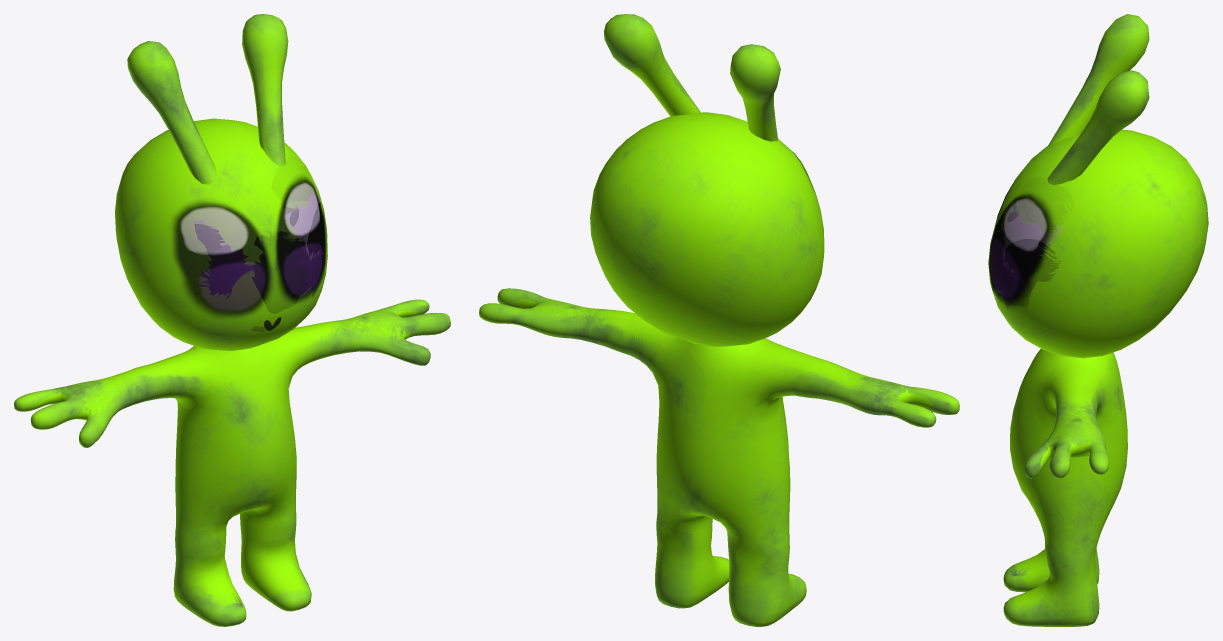
File: Alien_Smoth_TPose.fbx
The picture shows the model from 3 angles, left to right: view 1: azimuth 30°, elevation 25°; view 2: azimuth 150°, elevation 25°; view 3: azimuth 270°, elevation 25°; orthographic projection. The views are drawn at different scales.
Parts seen in each view (by area): view 1: Alien_Smoth_TPose; view 2: Alien_Smoth_TPose; view 3: Alien_Smoth_TPose.
Boxes of the visible parts, x1,y1,x2,y2 form: Alien_Smoth_TPose: [14, 14, 450, 626]; Alien_Smoth_TPose: [479, 14, 959, 626]; Alien_Smoth_TPose: [988, 14, 1208, 626].
Bounding box in the file's own units: 95.79 × 120 × 42.69.
